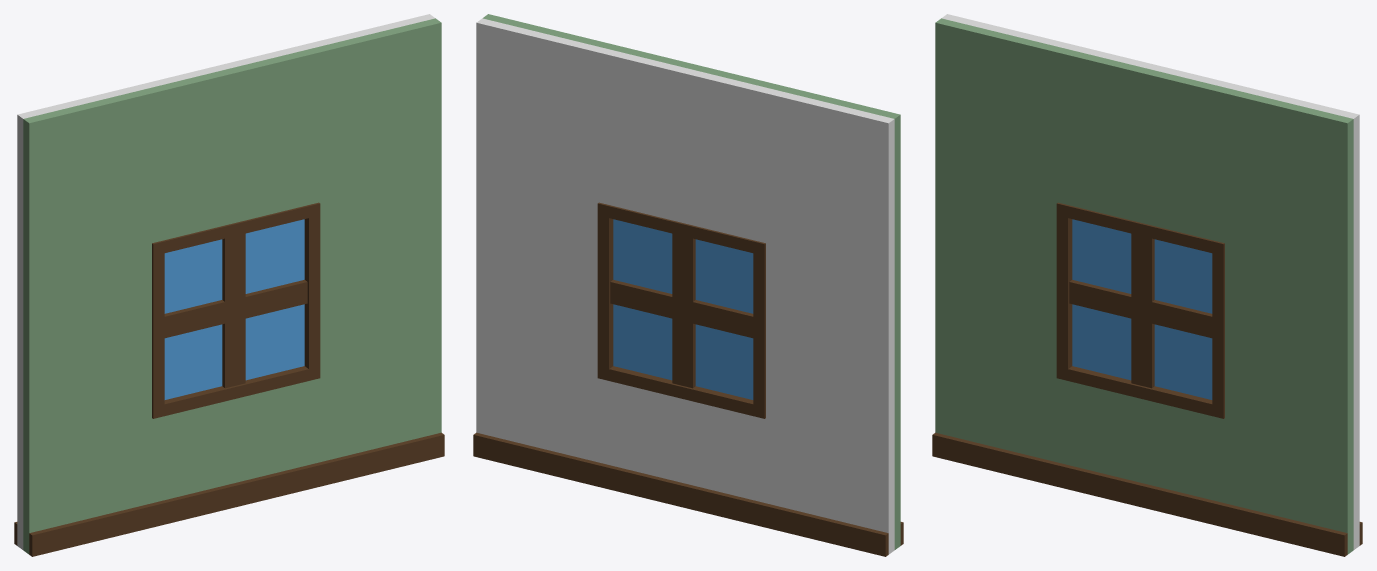
File: h_wall_1_window1_4.fbx
3 renders of one model, left to right at view 1: azimuth 30°, elevation 25°; view 2: azimuth 150°, elevation 25°; view 3: azimuth 330°, elevation 25°, orthographic.
Parts seen in each view (by area): view 1: Cube; view 2: Cube; view 3: Cube.
Boxes of the visible parts, box(x1,y1,x2,y2) form: Cube: box(14, 14, 444, 556); Cube: box(473, 14, 903, 556); Cube: box(932, 14, 1362, 556).
Bounding box in the file's own units: 400 × 400 × 30.
